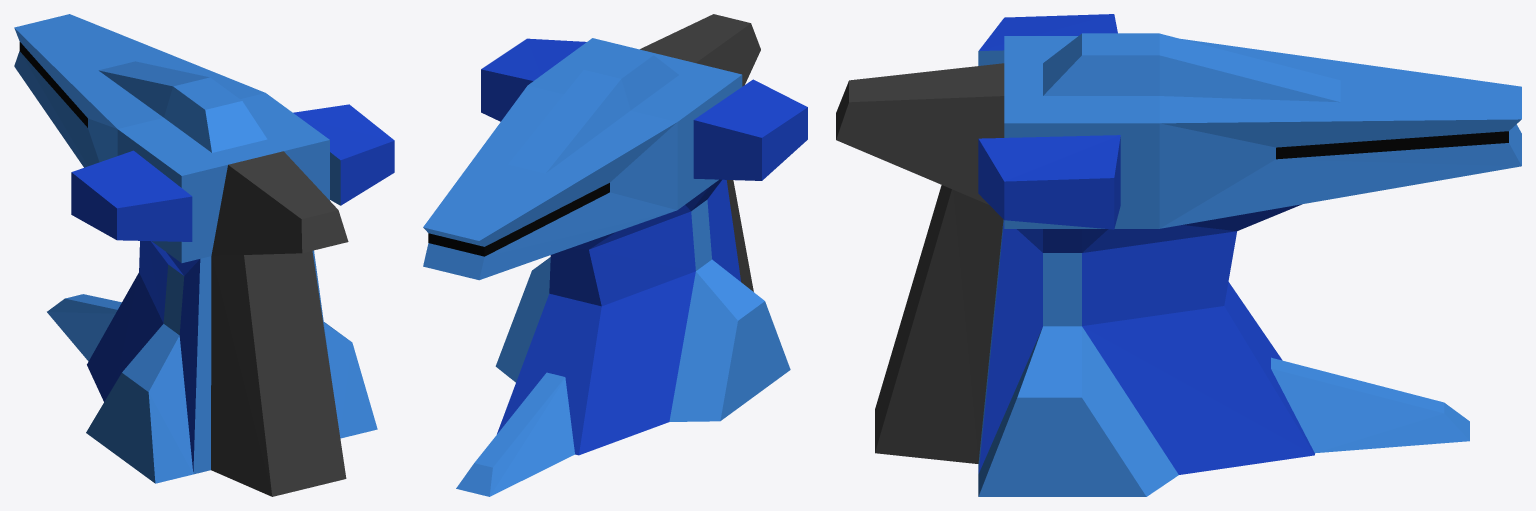
Rendered from boss.FBX.
The picture shows the model from 3 angles, left to right: view 1: azimuth 30°, elevation 25°; view 2: azimuth 150°, elevation 25°; view 3: azimuth 270°, elevation 25°; orthographic projection. The views are drawn at different scales.
Parts seen in each view (by area): view 1: VIFS001, VIFS004, VIFS003, VIFS002; view 2: VIFS001, VIFS003, VIFS004, VIFS002; view 3: VIFS001, VIFS003, VIFS004, VIFS002.
Part boxes in pixels (left/top/right/bottom): VIFS001: left=14, top=14, right=377, bottom=483; VIFS004: left=211, top=151, right=348, bottom=496; VIFS003: left=71, top=104, right=394, bottom=471; VIFS002: left=19, top=42, right=87, bottom=127; VIFS001: left=423, top=38, right=790, bottom=496; VIFS003: left=481, top=38, right=807, bottom=455; VIFS004: left=640, top=14, right=760, bottom=291; VIFS002: left=428, top=183, right=609, bottom=256; VIFS001: left=978, top=33, right=1521, bottom=496; VIFS003: left=978, top=14, right=1314, bottom=474; VIFS004: left=836, top=63, right=1004, bottom=463; VIFS002: left=1276, top=131, right=1508, bottom=159.
Bounding box in the file's own units: 0.3 × 0.33 × 0.53.
